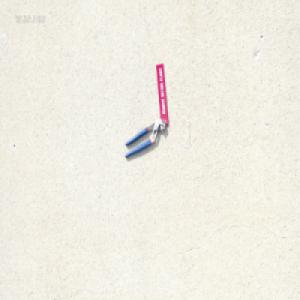Label: (155, 63, 169, 125)
Pliers: (124, 117, 166, 158)
